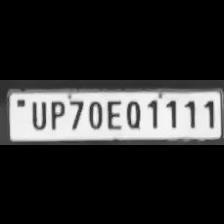0: (84, 97, 104, 129)
1: (160, 96, 180, 128), (198, 97, 218, 129), (143, 96, 161, 128), (180, 97, 198, 129)
7: (66, 96, 84, 130)
E: (104, 96, 122, 130)
P: (46, 96, 66, 130)
Q: (122, 97, 144, 129)
U: (26, 98, 48, 130)
